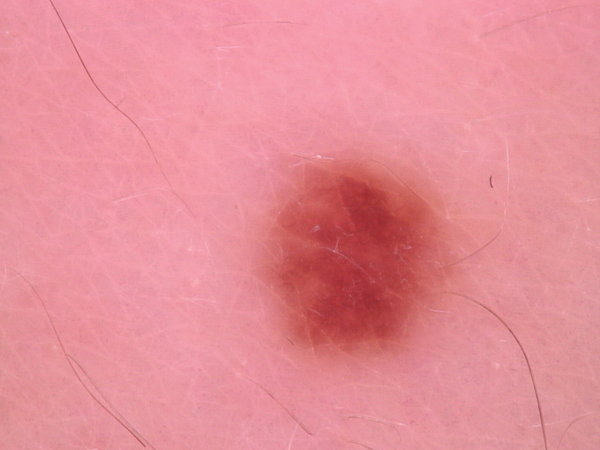Detected Lesion: (253, 149, 458, 361)
